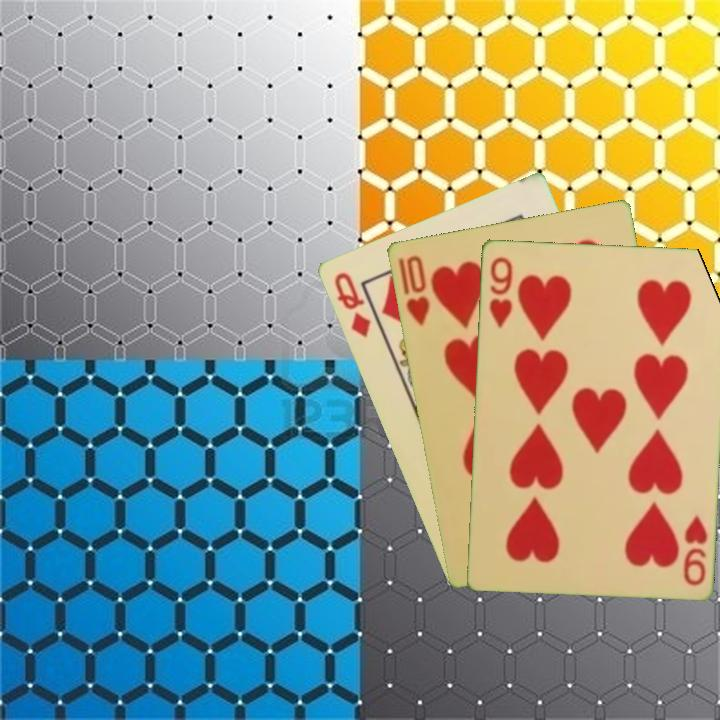10h: (402, 251, 432, 329)
9h: (679, 510, 710, 589), (485, 253, 515, 331)
Qd: (330, 268, 374, 340)
